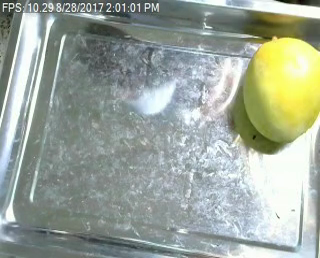Mango: (239, 37, 320, 145)
